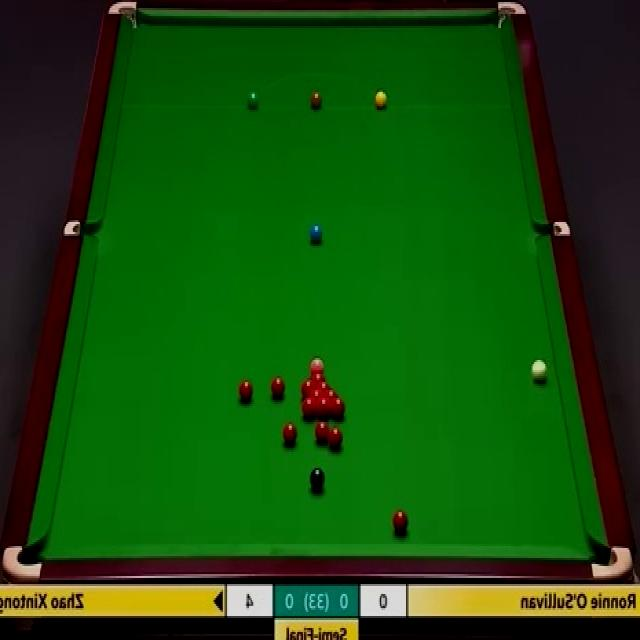black-ball: (309, 465, 325, 494)
blue-ball: (310, 223, 323, 247)
brown-ball: (309, 92, 323, 110)
green-ball: (246, 90, 260, 112)
pink-ball: (310, 356, 324, 372)
red-ball: (392, 508, 409, 536), (237, 378, 254, 404), (270, 375, 286, 400), (282, 423, 298, 446), (328, 426, 343, 450), (301, 397, 317, 419), (315, 421, 329, 443), (332, 398, 346, 420), (317, 397, 330, 417), (301, 379, 314, 398), (314, 380, 333, 390), (308, 372, 326, 382), (307, 388, 323, 398), (323, 389, 338, 398)
white-ball: (531, 358, 548, 388)
yellow-ball: (374, 90, 388, 110)
